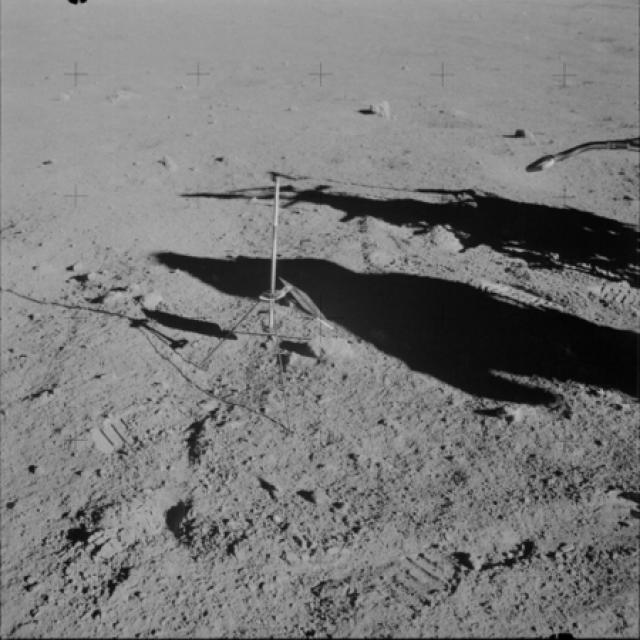rock: (57, 255, 173, 309), (277, 329, 373, 375), (406, 214, 472, 262), (477, 401, 524, 430), (357, 97, 392, 127), (501, 122, 538, 147), (152, 154, 182, 172)
